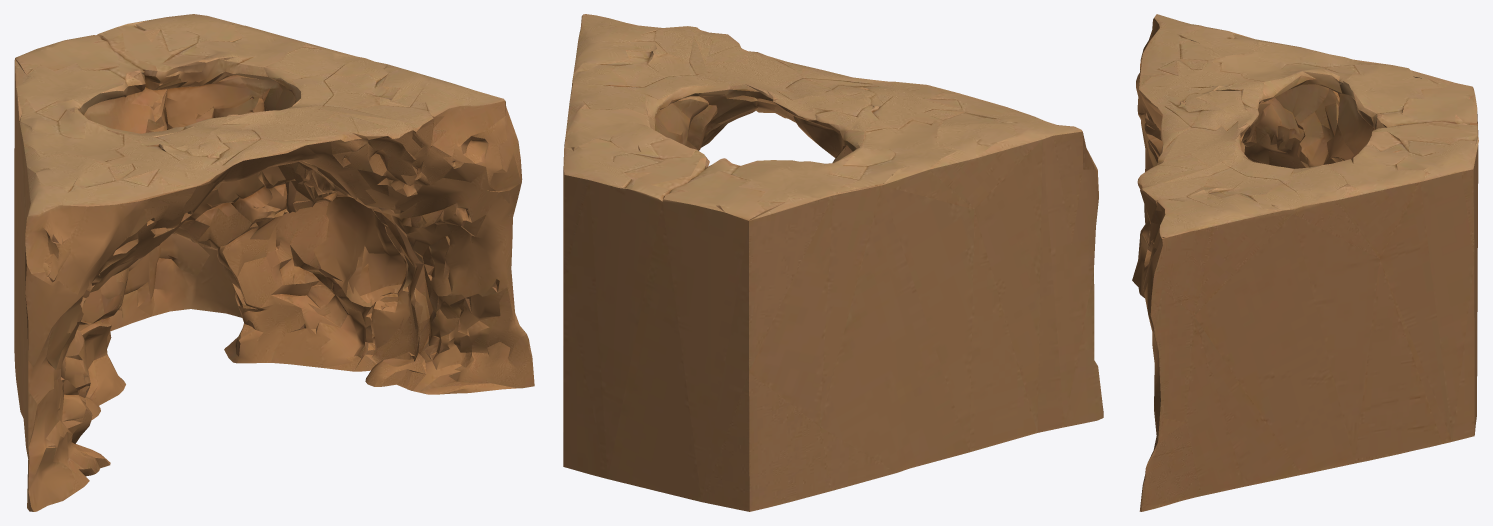
The model's file is Cave_Chamber_Skylight.glb.
3 renders of one model, left to right at view 1: azimuth 30°, elevation 25°; view 2: azimuth 150°, elevation 25°; view 3: azimuth 270°, elevation 25°, orthographic. The views are drawn at different scales.
Size of the model in its own units: 1.9 by 1.05 by 1.19.
Materials: 1 (1 with a texture image).
